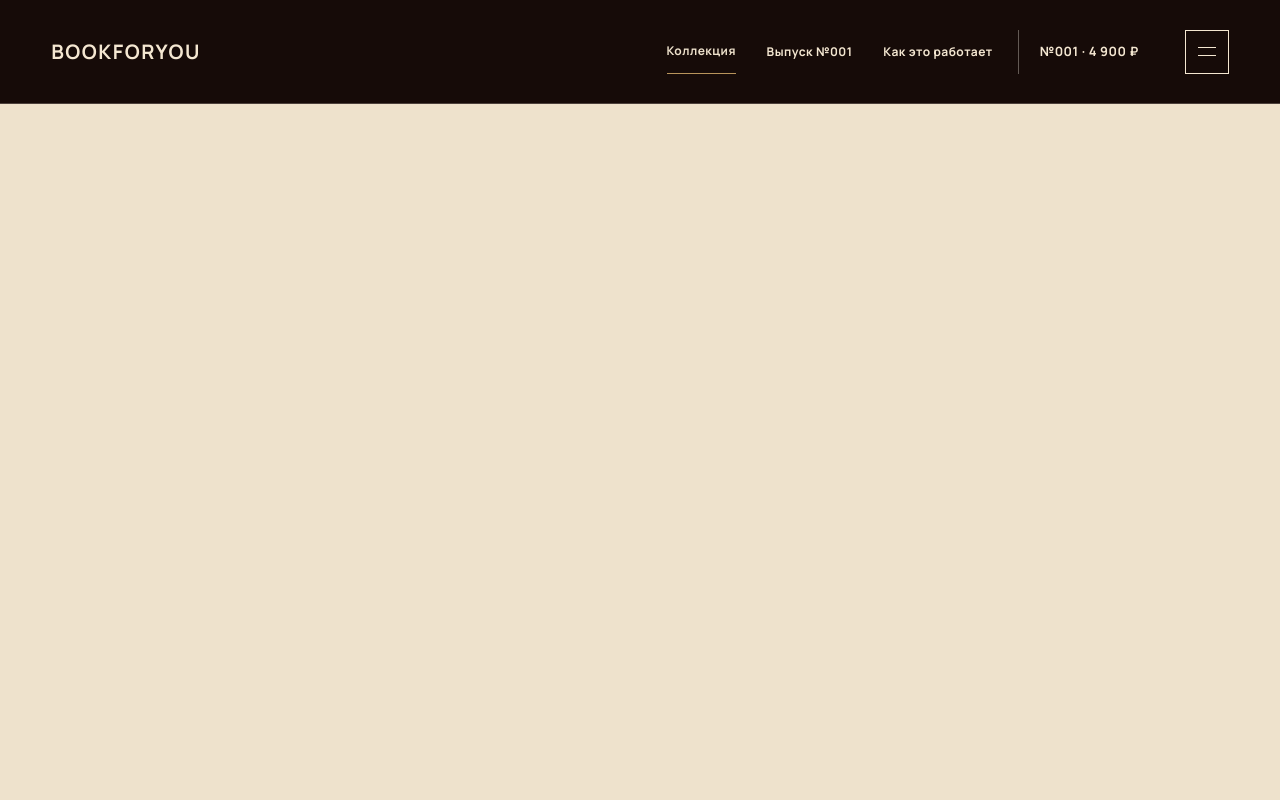
Test: Header › closes when the current destination is selected again
Click the button named "Меню": click(1207, 52) [1185,30,1229,74]
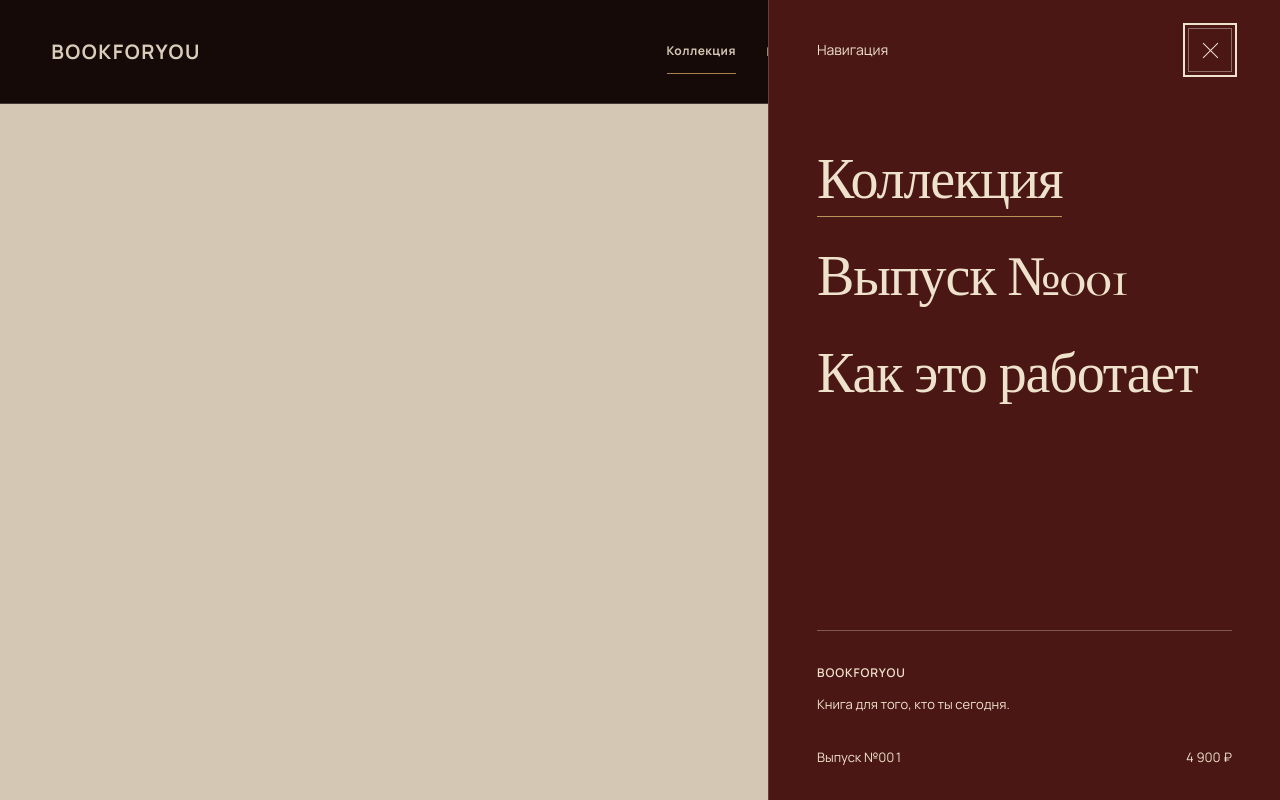
Click the link to "/collection": click(940, 181) [817,144,1062,217]
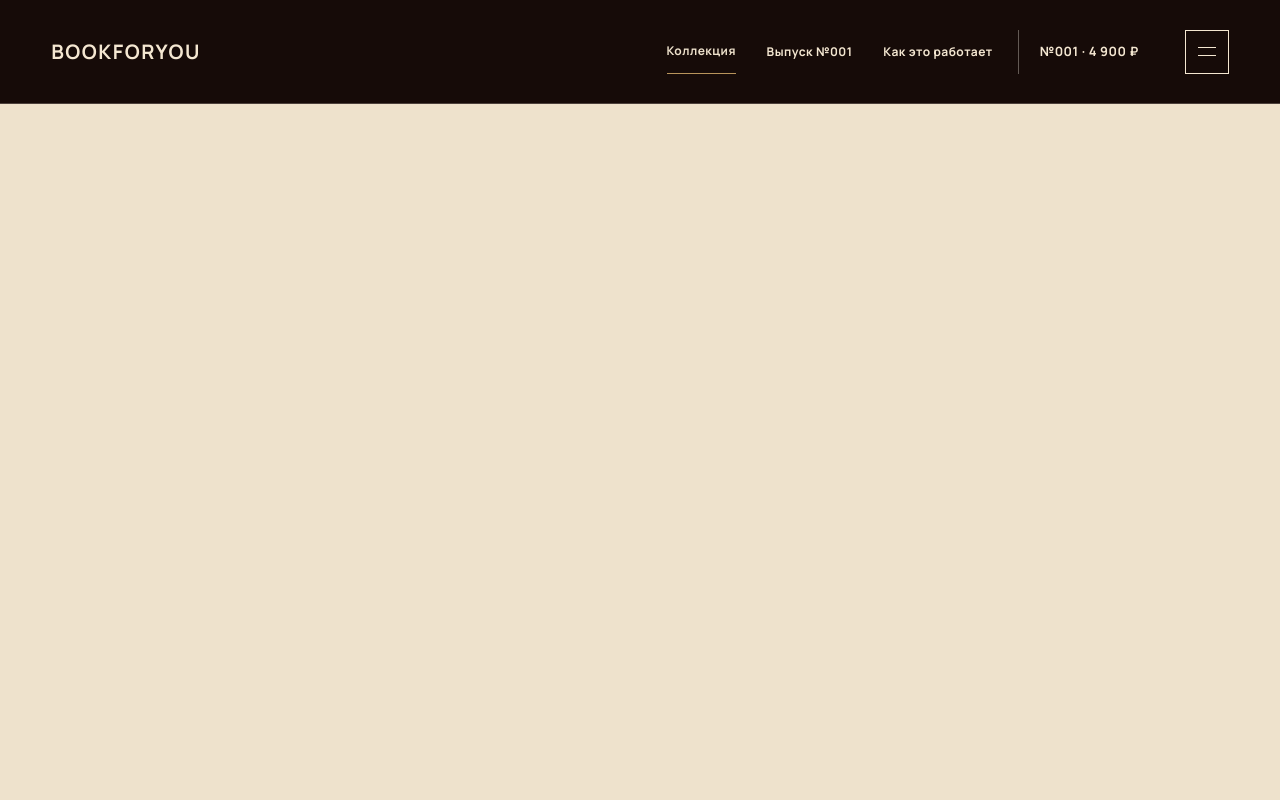
Now the button named "Меню" is collapsed, box [1185,30,1229,74]
